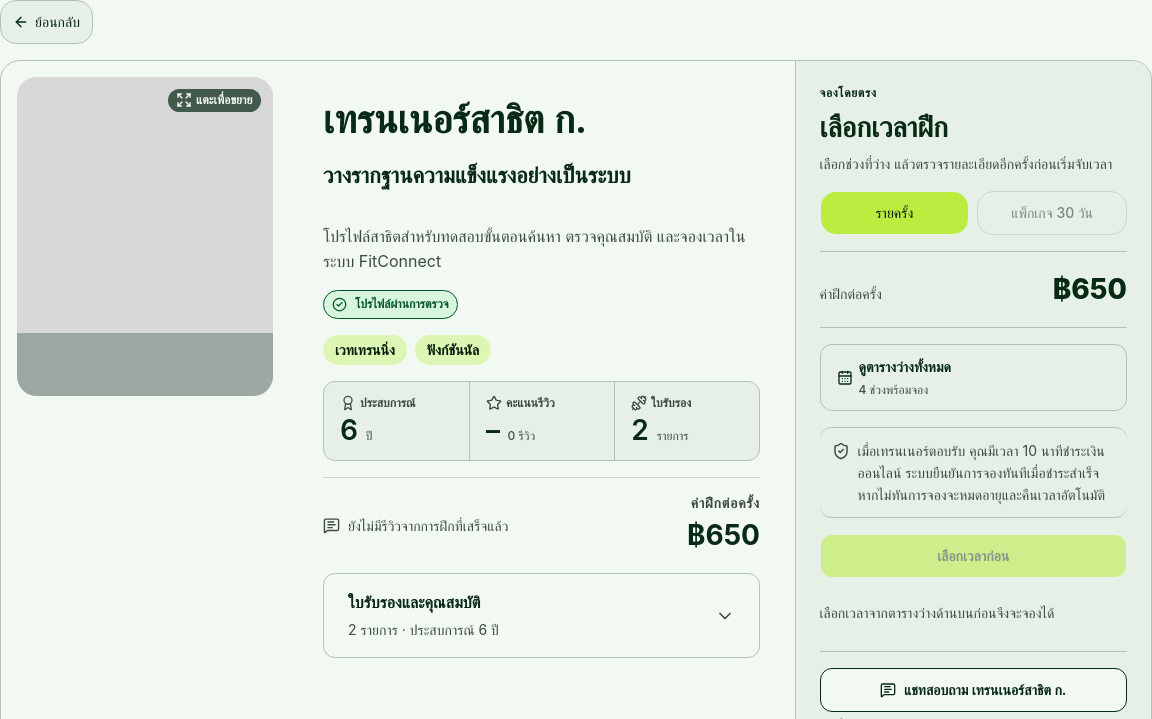
Test case: TrainerDetail › opens the complete schedule in a dialog, then exposes the booking link
Expected: the dialog "เลือกวันและเวลาฝึก" is not shown
Click the button "ดูตารางว่างทั้งหมด 4 ช่วงพร้อมจอง" at (905, 367), box [820,344,1127,411]
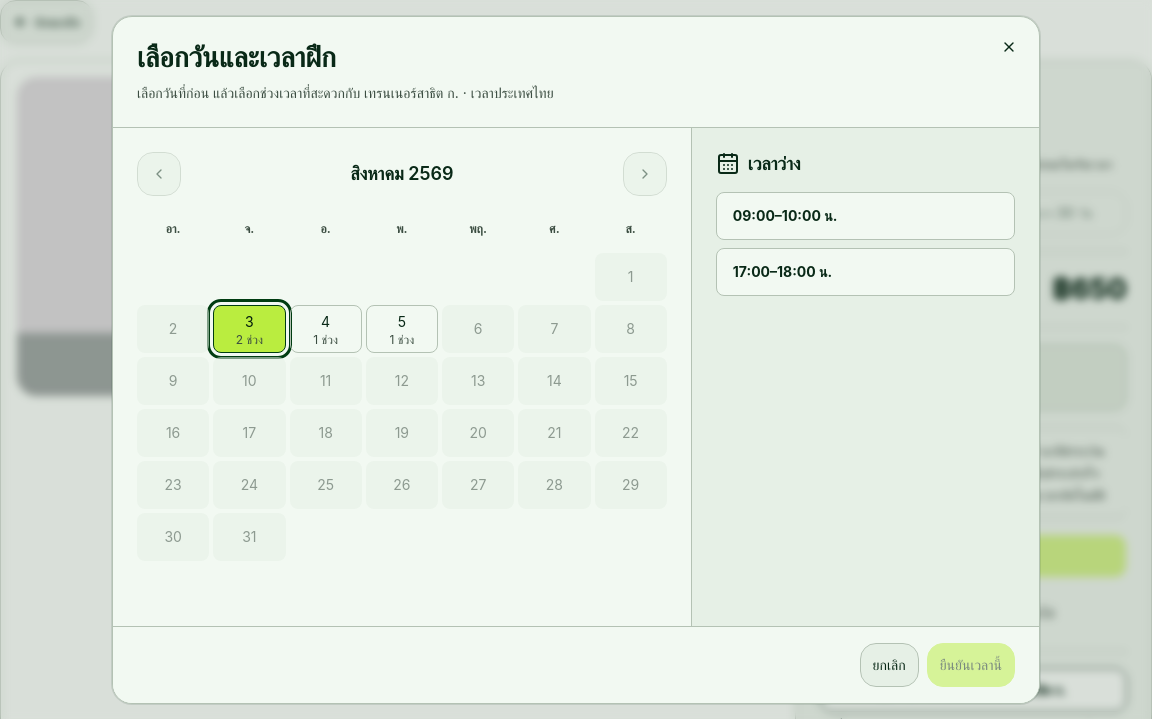
Click the button "09:00–10:00 น." at (754, 215), box [716,192,1015,240]
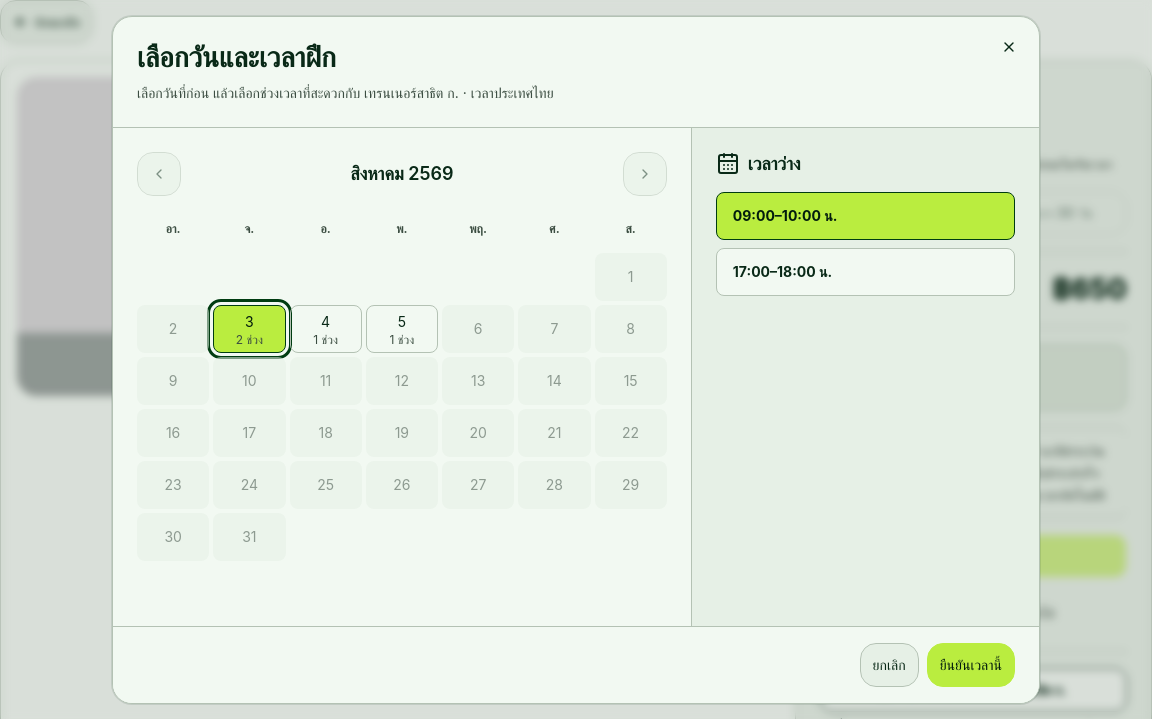
Click the button "ยืนยันเวลานี้" at (971, 665), box [927,643,1015,687]
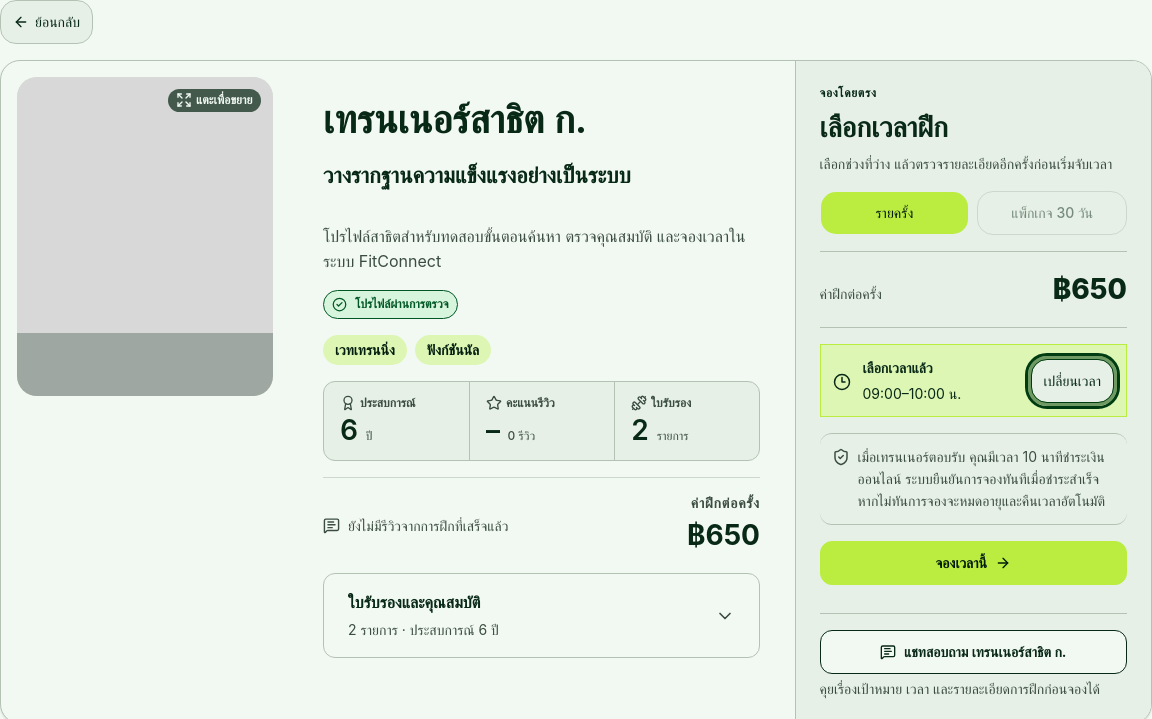
Expected: the number of links "จองเวลานี้" is 1, [820,540,1127,584]
Expected: the dialog is gone
